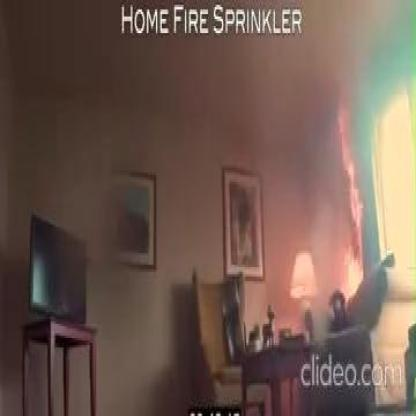fire: (333, 87, 364, 239), (339, 241, 364, 298)
